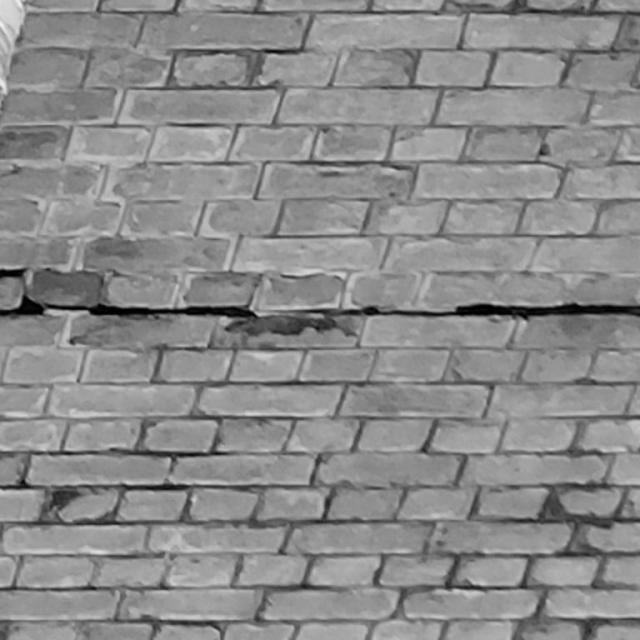crack: (1, 268, 640, 320)
